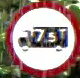Heavy Vehicles: (6, 1, 79, 77)
